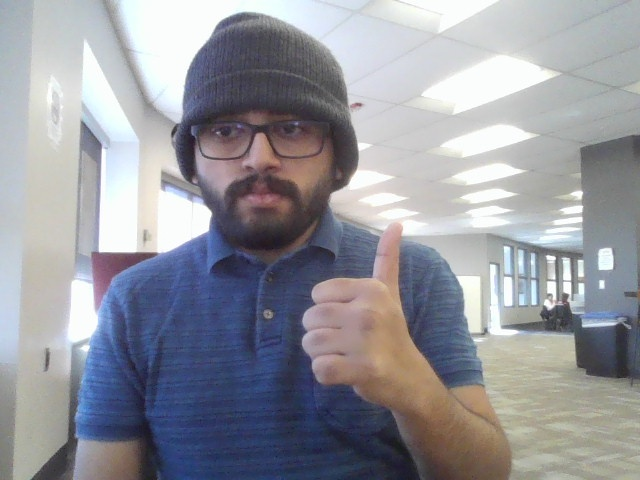start: (299, 213, 434, 416)
